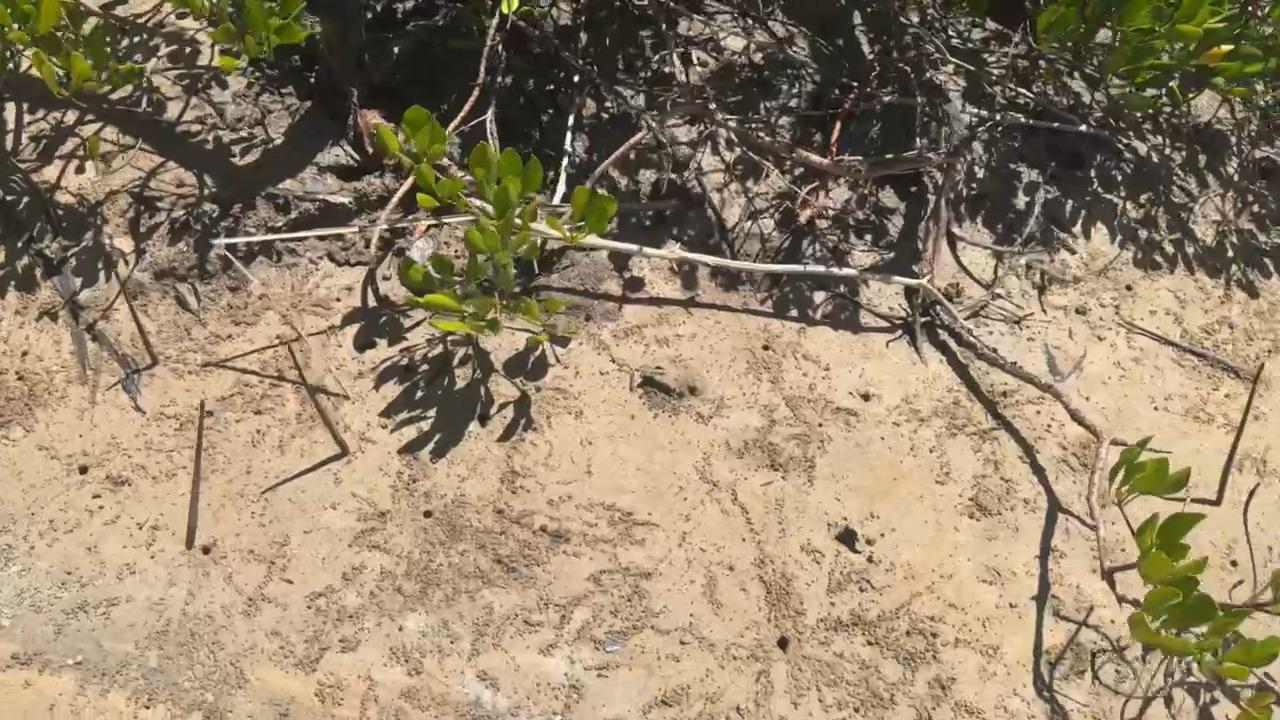Tree: (222, 246, 354, 403), (1213, 361, 1265, 506), (286, 344, 350, 455), (113, 269, 159, 366), (184, 399, 205, 551)
